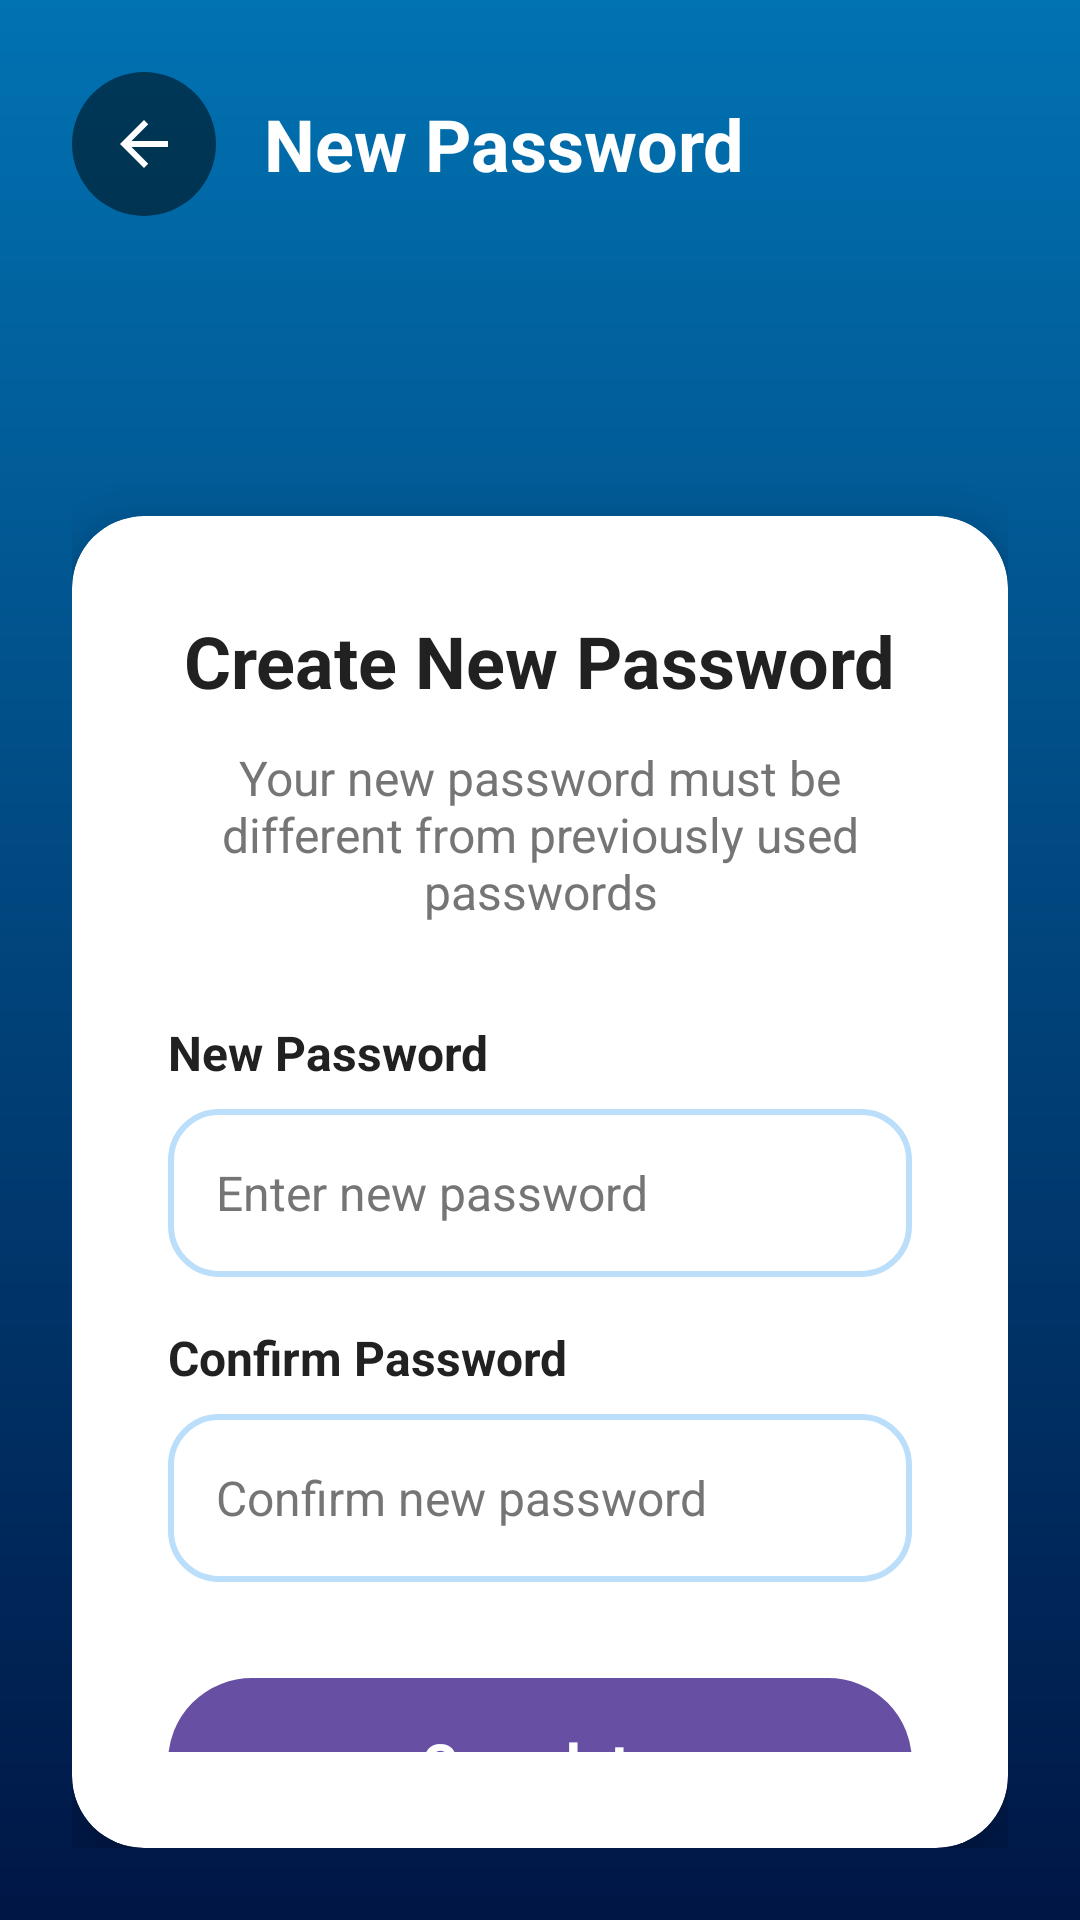

Icons on this 1080px x 1920px Android screen, each with its box as (x1=x1, y1=y1, x2=x2, y2=y2):
Back button: (x1=72, y1=72, x2=216, y2=216)
